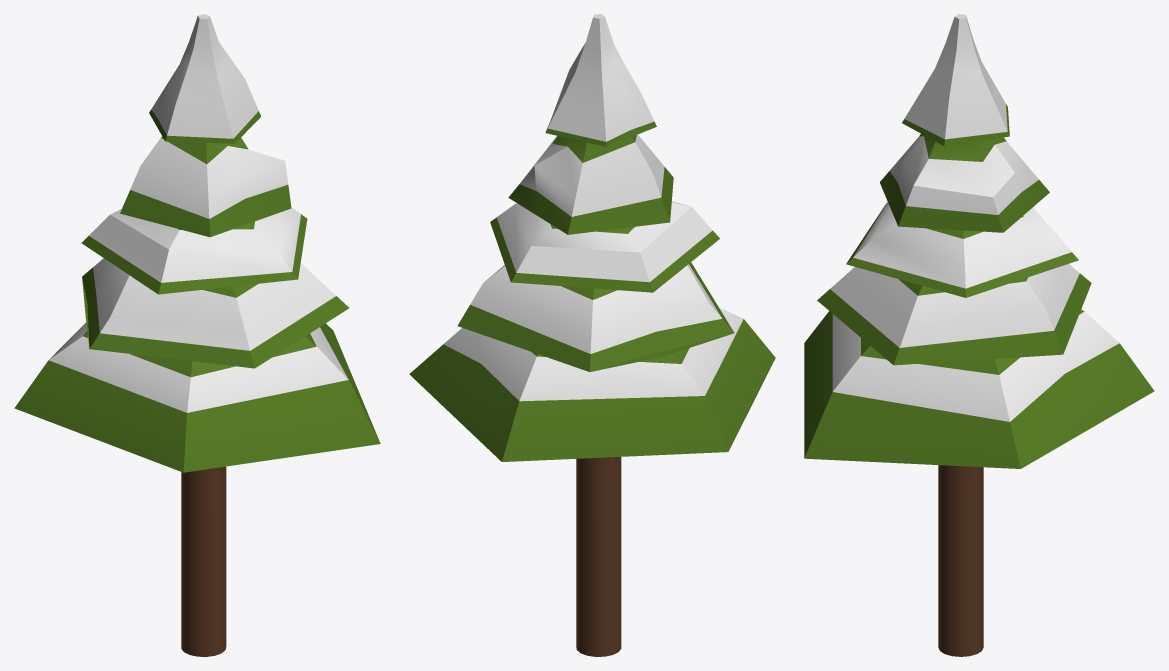
The model's file is Tree_Tall_1_Snow.fbx.
The picture shows the model from 3 angles, left to right: view 1: azimuth 30°, elevation 25°; view 2: azimuth 150°, elevation 25°; view 3: azimuth 270°, elevation 25°; orthographic projection.
Visible parts, largest first — view 1: Tree_Tall_1_Snow; view 2: Tree_Tall_1_Snow; view 3: Tree_Tall_1_Snow.
Part boxes in pixels (x1=…): Tree_Tall_1_Snow: x1=14, y1=14, x2=380, y2=656; Tree_Tall_1_Snow: x1=409, y1=14, x2=775, y2=656; Tree_Tall_1_Snow: x1=804, y1=14, x2=1154, y2=656.
Size of the model in its own units: 451 by 851 by 429.
